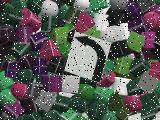Left: (65, 31, 112, 83)
